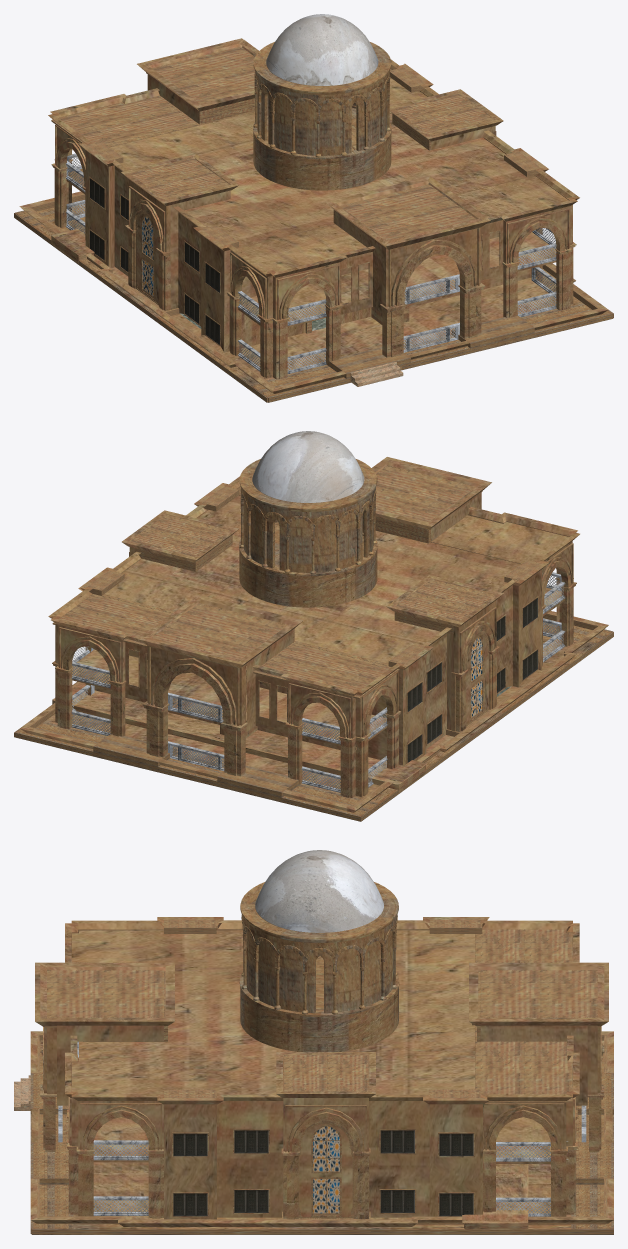
File: build11a.gltf
The picture shows the model from 3 angles, top to bottom: view 1: azimuth 30°, elevation 25°; view 2: azimuth 150°, elevation 25°; view 3: azimuth 270°, elevation 25°; orthographic projection. The views are drawn at different scales.
Parts seen in each view (by area): view 1: build11a; view 2: build11a; view 3: build11a.
Part boxes in pixels (x1,y1,x2,y2): build11a: [14, 14, 613, 402]; build11a: [14, 431, 613, 821]; build11a: [14, 850, 613, 1234].
Bounding box in the file's own units: 23.67 × 16.15 × 30.75.
Materials: 7 (7 with a texture image).
